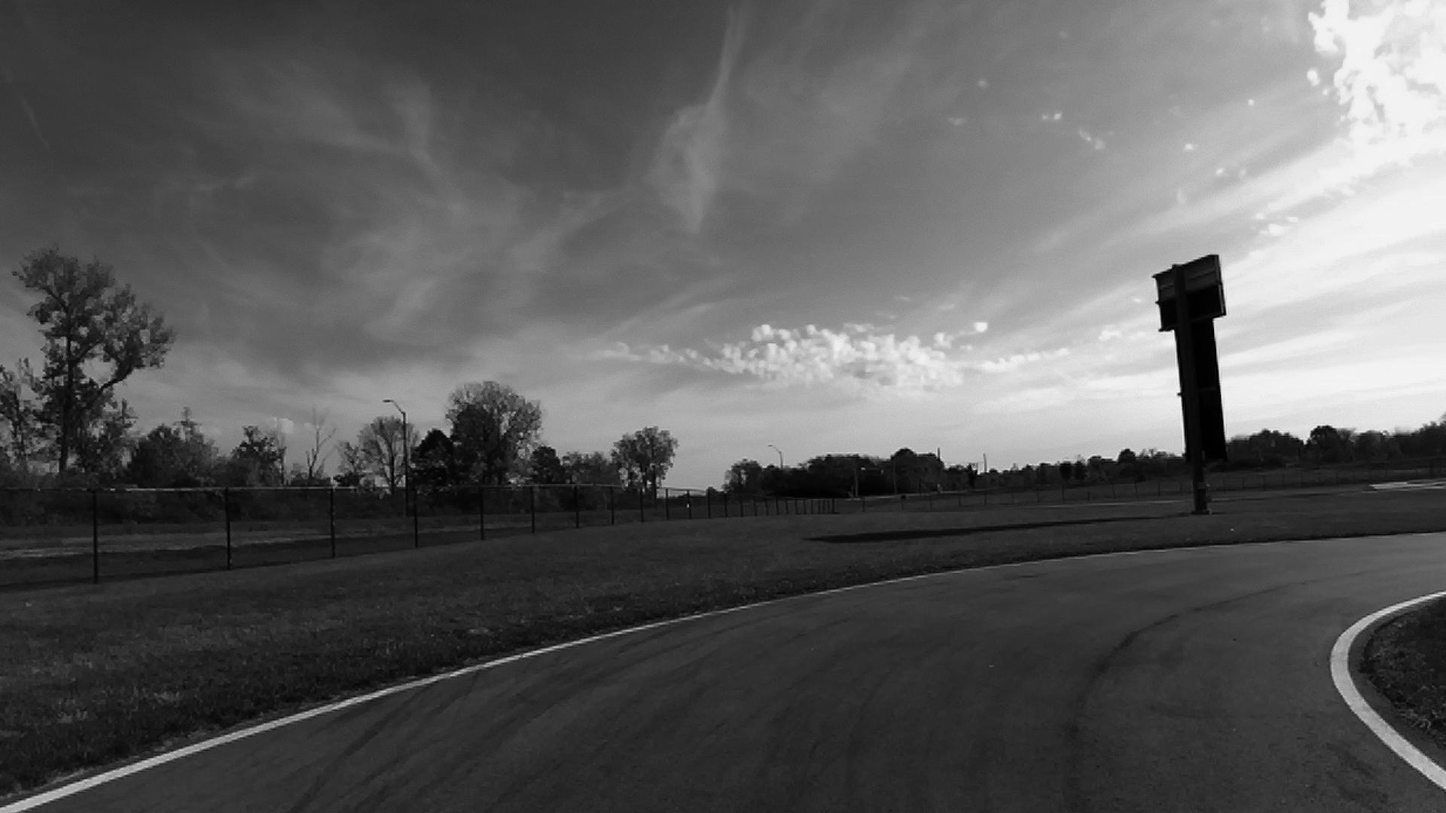white-line: (0, 558, 1075, 813), (1331, 590, 1446, 790)
